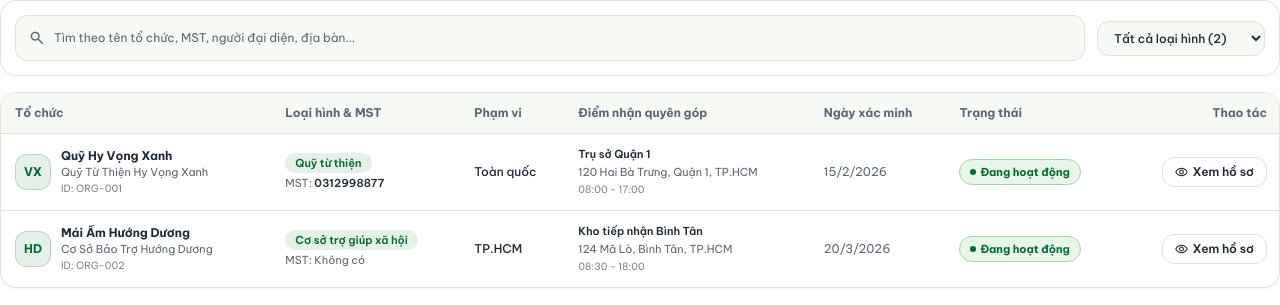
Test: ExistingOrganizationsSection - Existing Organizations Tab › filters organizations by type dropdown
Select "Cơ sở trợ giúp xã hội" in the dropdown: [1181, 38] box [1097, 20, 1265, 56]
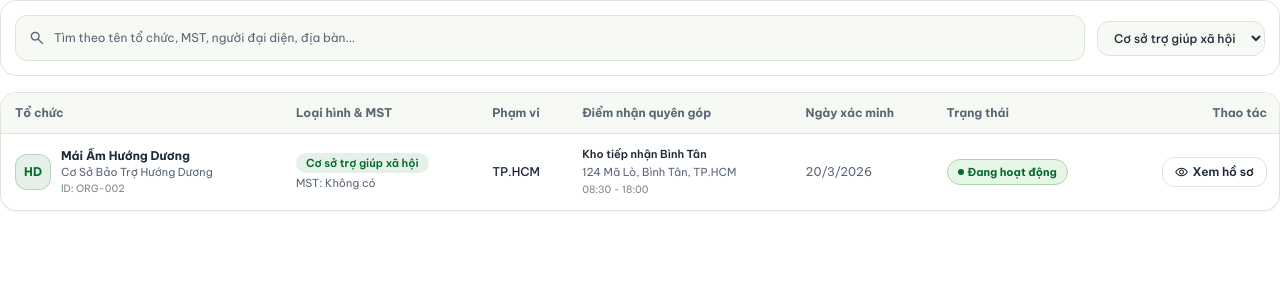
Expected: the text "Mái Ấm Hướng Dương" is shown, [61, 148, 190, 162]
Now the text "Quỹ Hy Vọng Xanh" is gone
